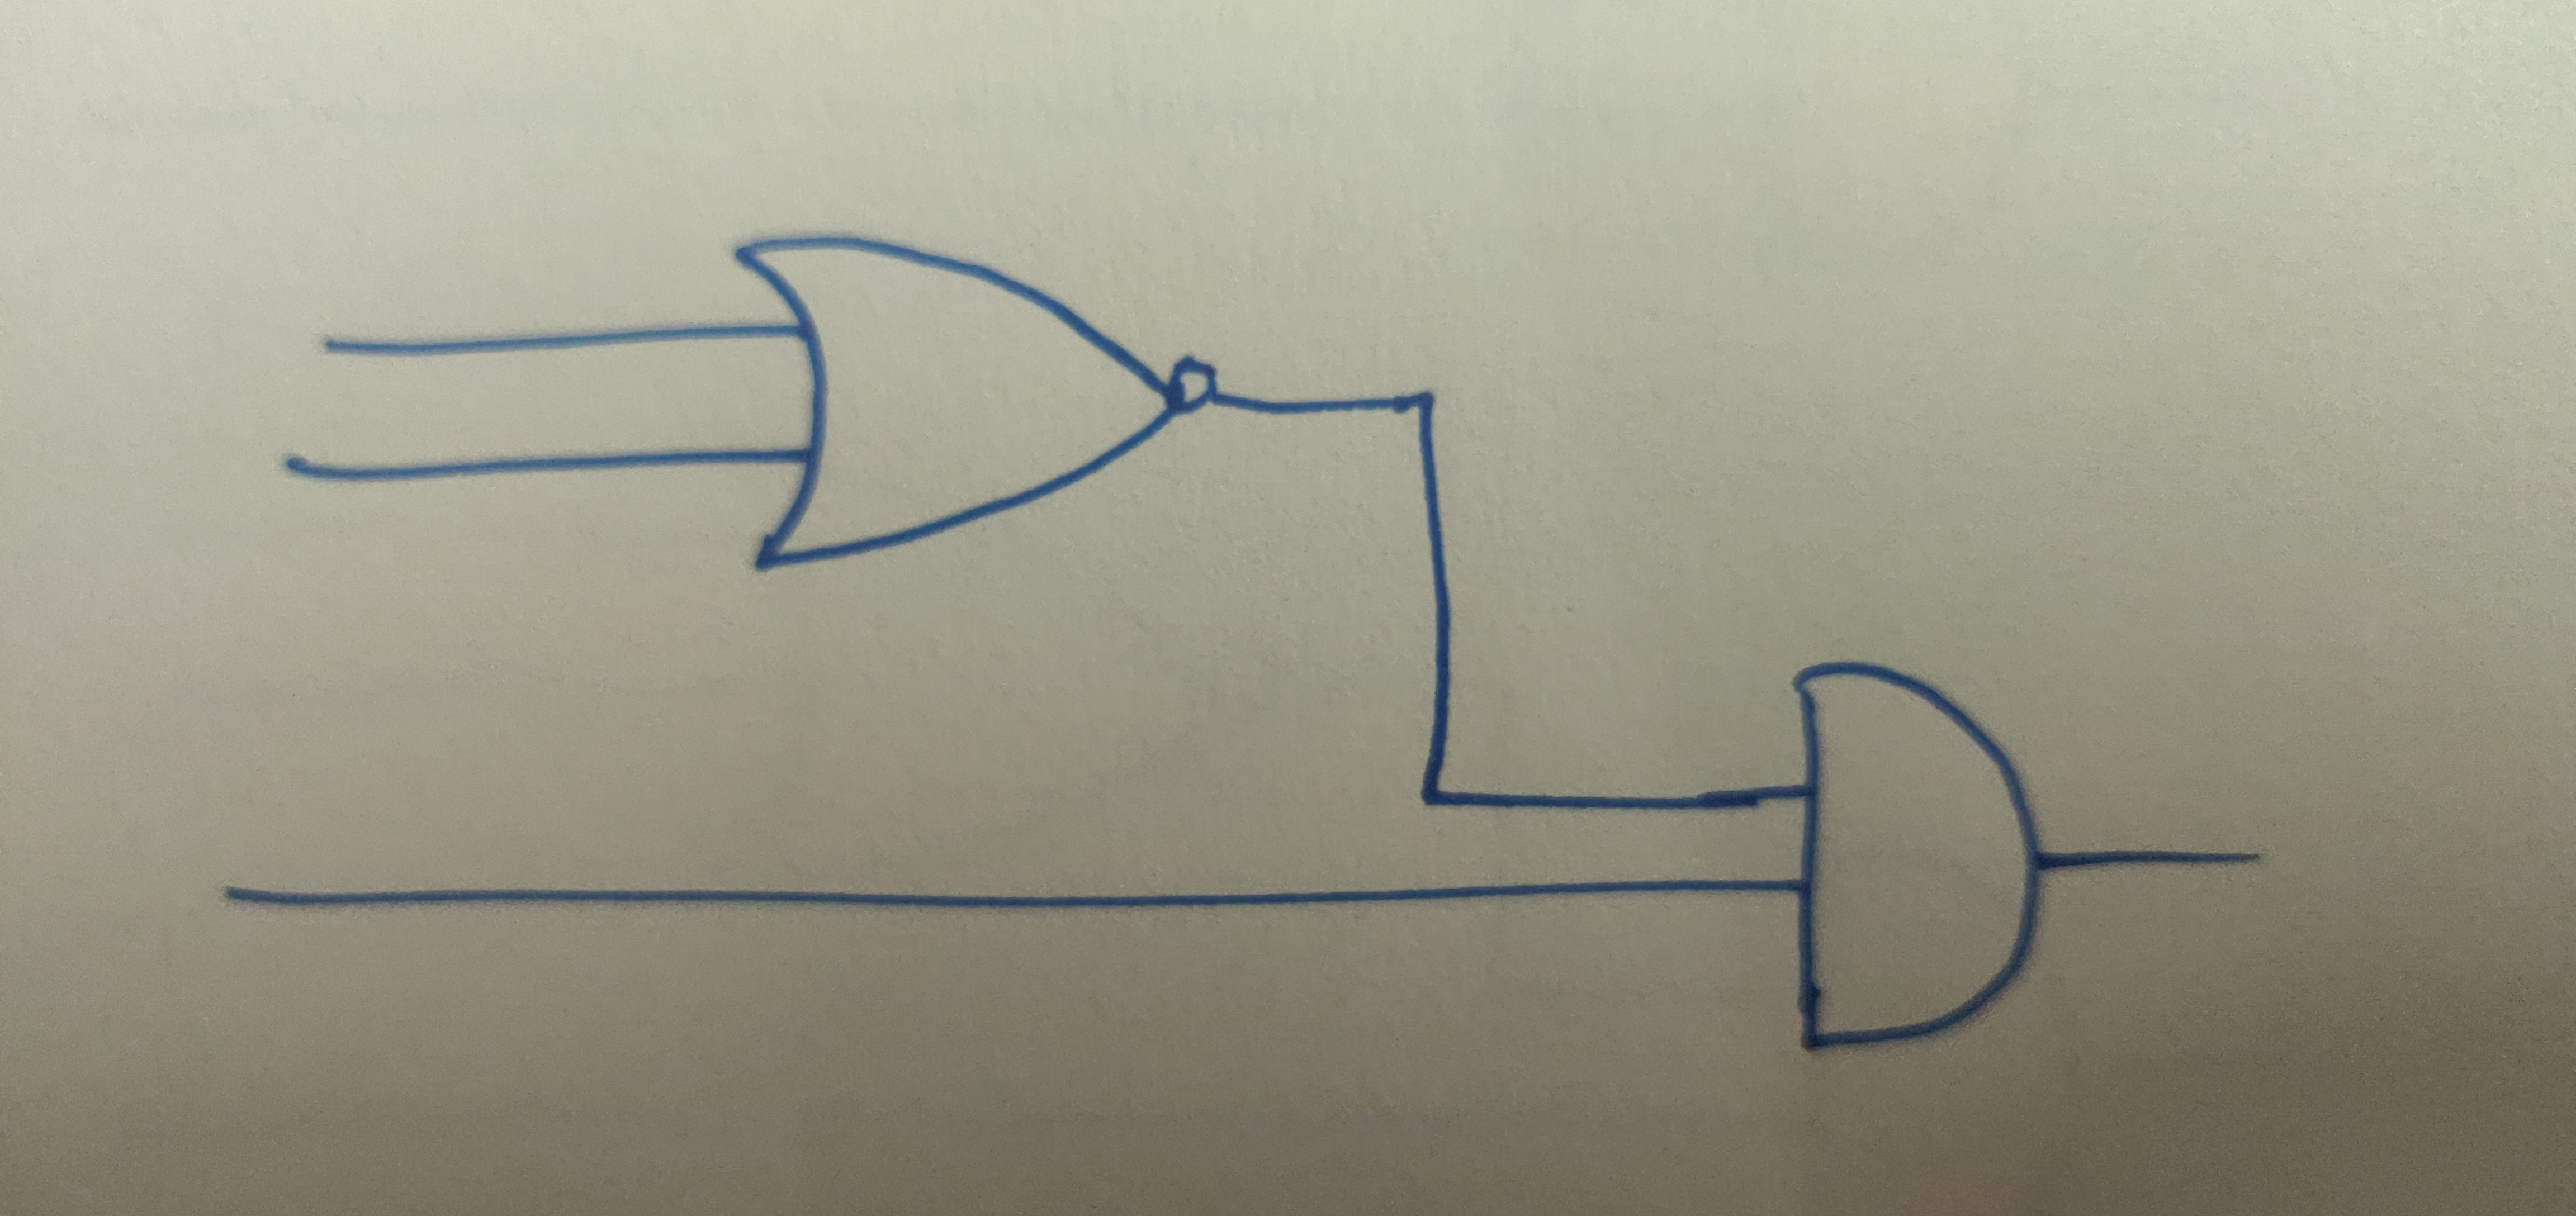and: (1791, 661, 2044, 1055)
not: (1166, 358, 1216, 427)
or: (726, 223, 1176, 585)
